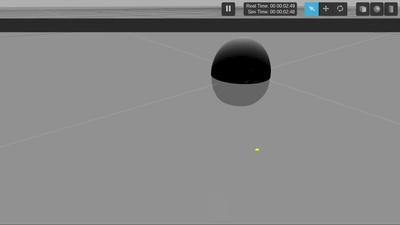mira_robot: (212, 38, 271, 106)
